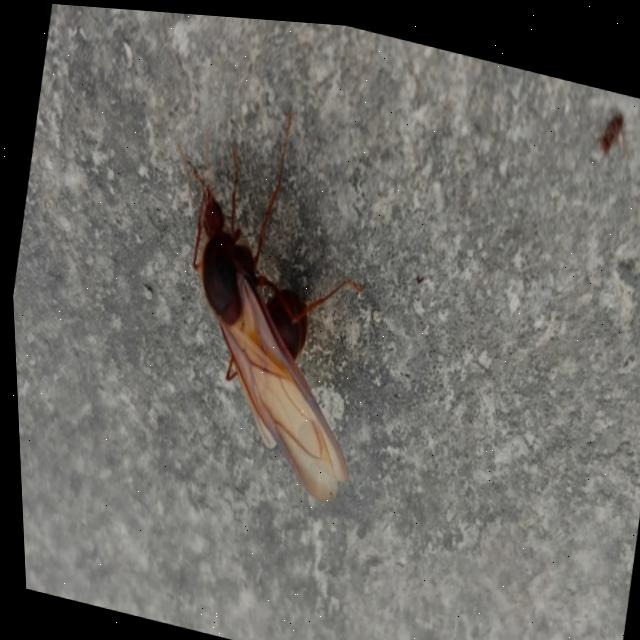Alive-Male-Alate: (117, 82, 405, 508)
